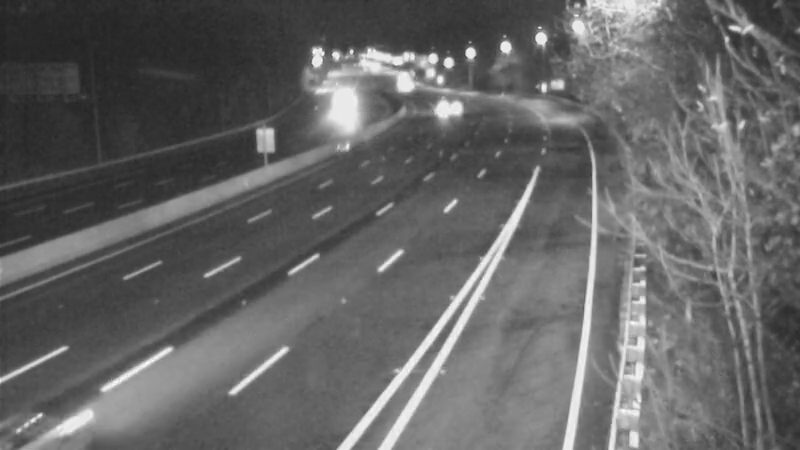vehicle: (426, 79, 476, 129), (321, 84, 371, 134)
